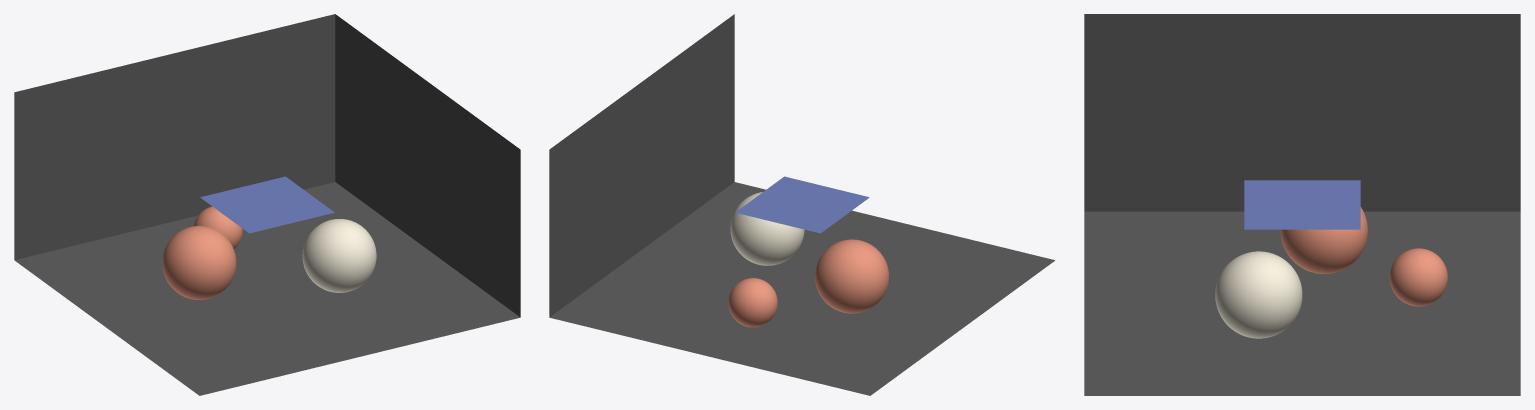
Rendered from many_lights_dark.gltf.
3 renders of one model, left to right at view 1: azimuth 30°, elevation 25°; view 2: azimuth 150°, elevation 25°; view 3: azimuth 270°, elevation 25°, orthographic. The views are drawn at different scales.
Size of the model in its own units: 6 by 3 by 6.
